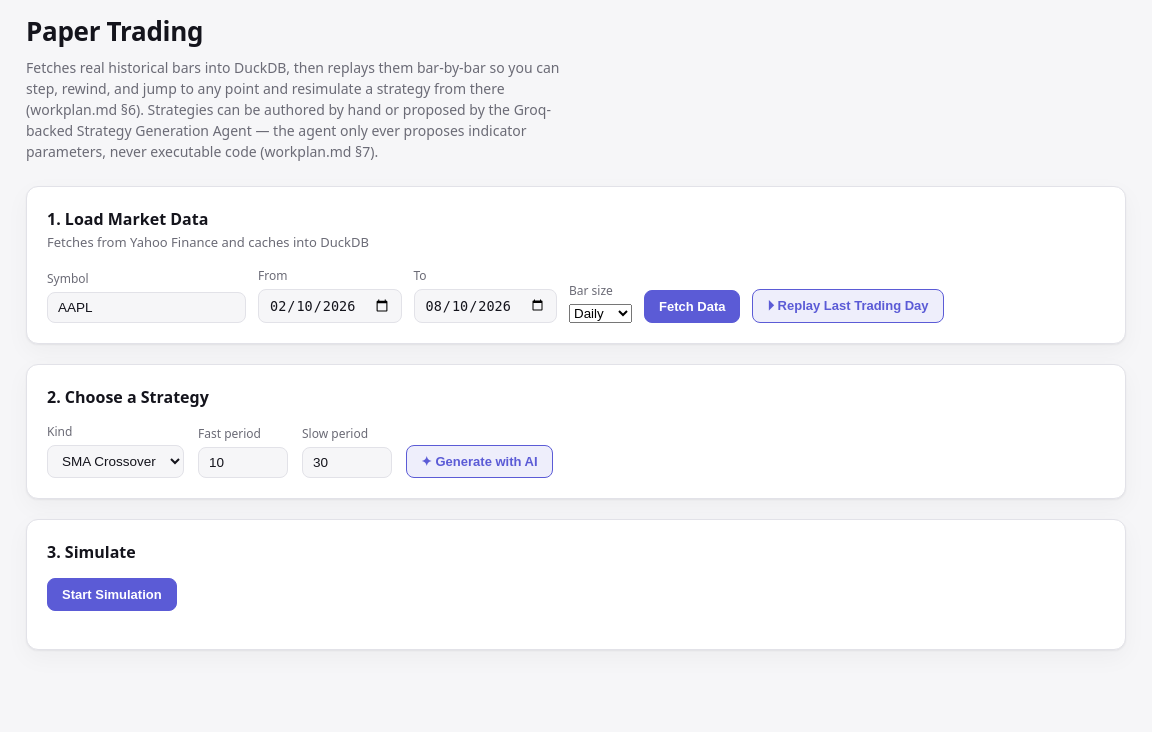
Test case: PaperTrading page › generates a strategy via the AI agent and shows the rationale
The image size is (1152, 732).
Click the button "✦ Generate with AI": coordinates (479, 461) [406,444,553,478]
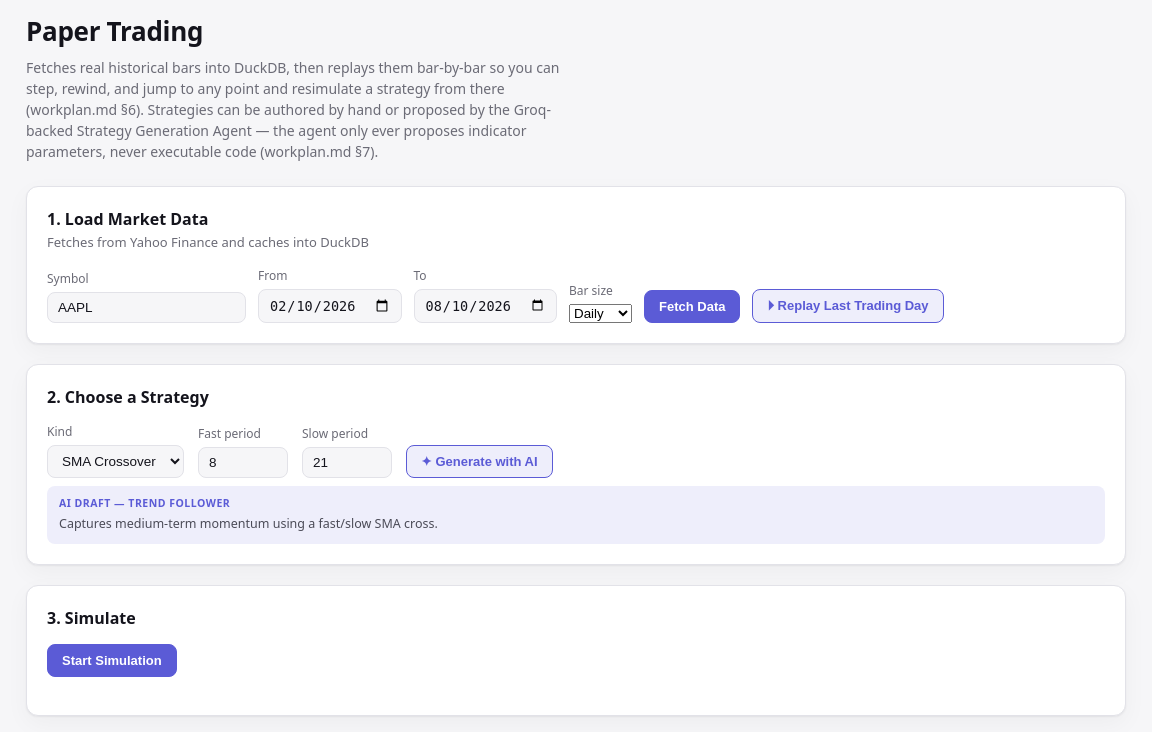
Result: the text "AI draft — Trend Follower" is shown at [59,496,230,510]
Result: the text "Captures medium-term momentum" is shown at [59,515,438,532]
